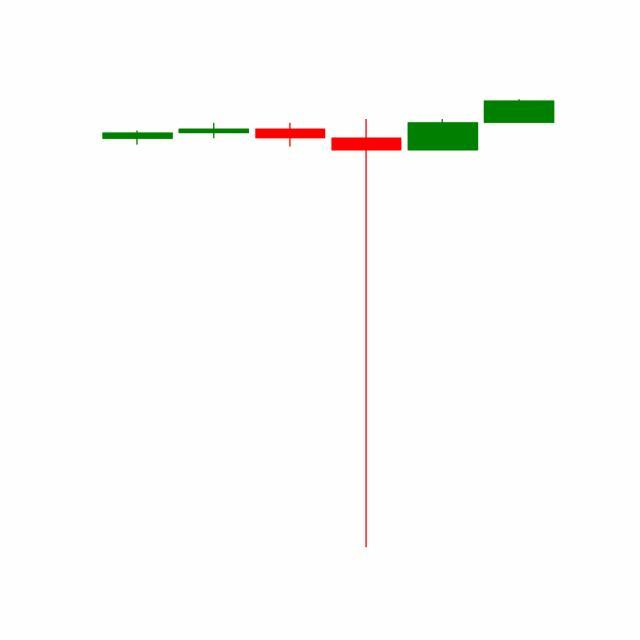Marubozu: (404, 119, 482, 152)
